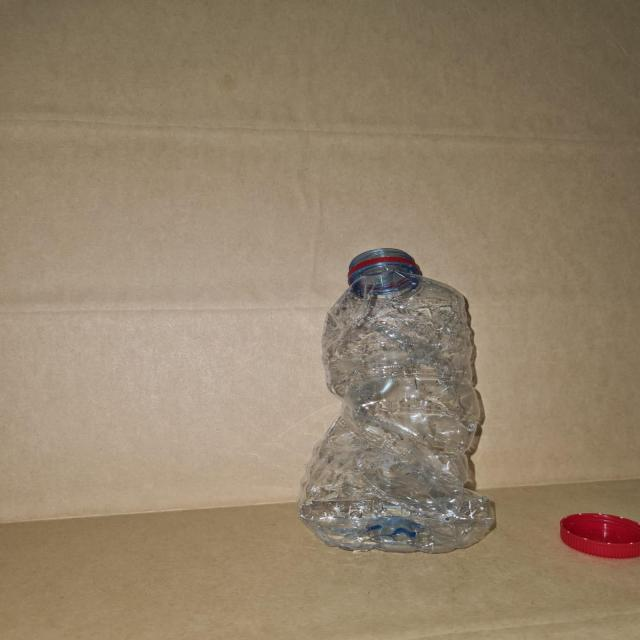bottle: (307, 250, 505, 557)
